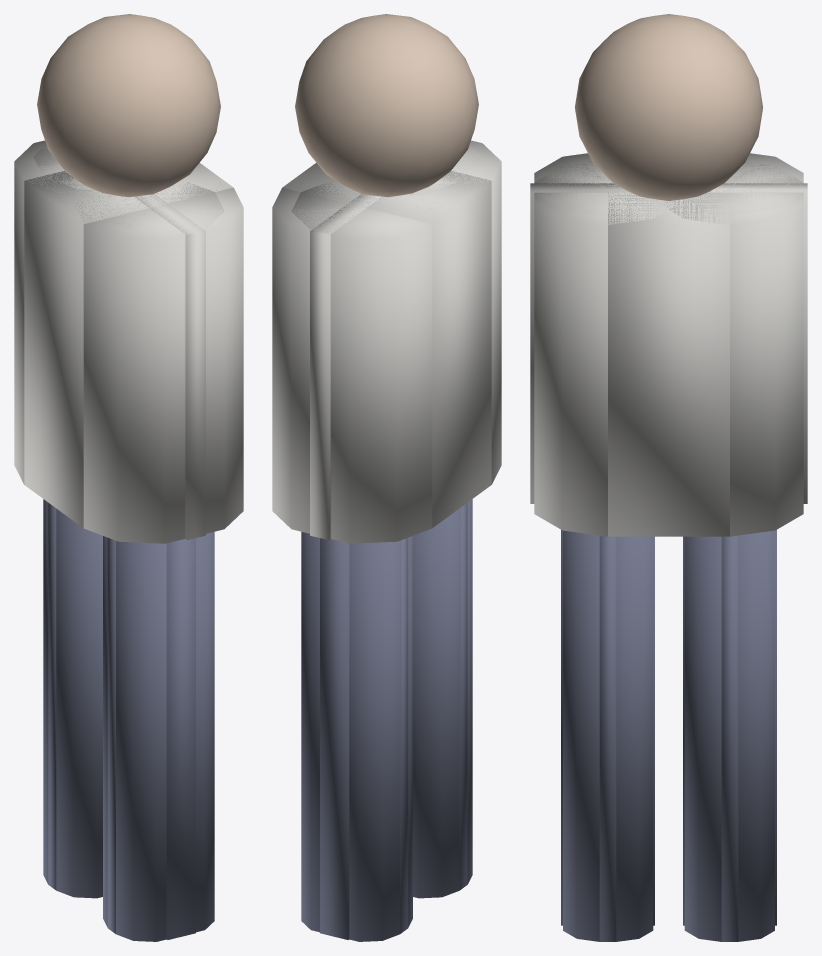
Rendered from person_white.glb.
3 views of the same model, side by side, from view 1: azimuth 30°, elevation 25°; view 2: azimuth 150°, elevation 25°; view 3: azimuth 270°, elevation 25° (orthographic). The views are drawn at different scales.
Parts seen in each view (by area): view 1: person_white_2, person_white_0, person_white_3, person_white_1; view 2: person_white_2, person_white_1, person_white_3, person_white_0; view 3: person_white_2, person_white_0, person_white_1, person_white_3.
Boxes of the visible parts, <box> form: person_white_2: <box>14,140,243,543</box>; person_white_0: <box>103,532,214,941</box>; person_white_3: <box>37,14,220,197</box>; person_white_1: <box>43,499,102,898</box>; person_white_2: <box>272,140,501,543</box>; person_white_1: <box>301,532,412,941</box>; person_white_3: <box>295,14,478,197</box>; person_white_0: <box>413,499,472,898</box>; person_white_2: <box>530,153,807,536</box>; person_white_0: <box>561,530,654,941</box>; person_white_1: <box>683,530,776,941</box>; person_white_3: <box>575,14,762,200</box>.
Bounding box in the file's own units: 0.34 × 1.78 × 0.5.
